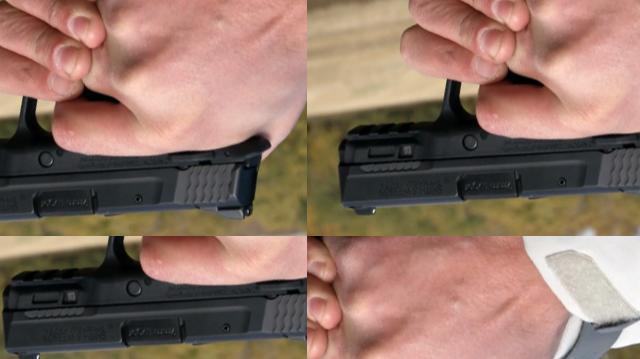handgun: (307, 0, 640, 236), (94, 236, 307, 359), (307, 290, 525, 359)
